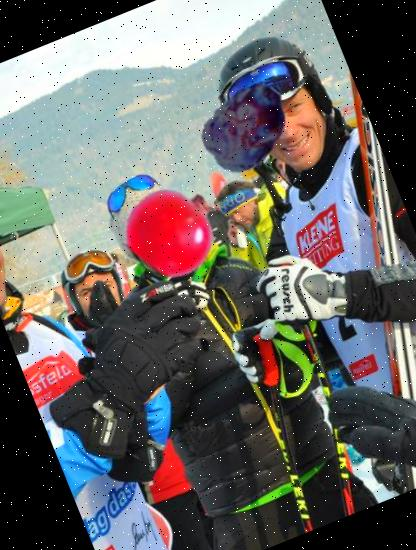Dates: (184, 64, 308, 188)
Redcurrant: (115, 170, 231, 286)
